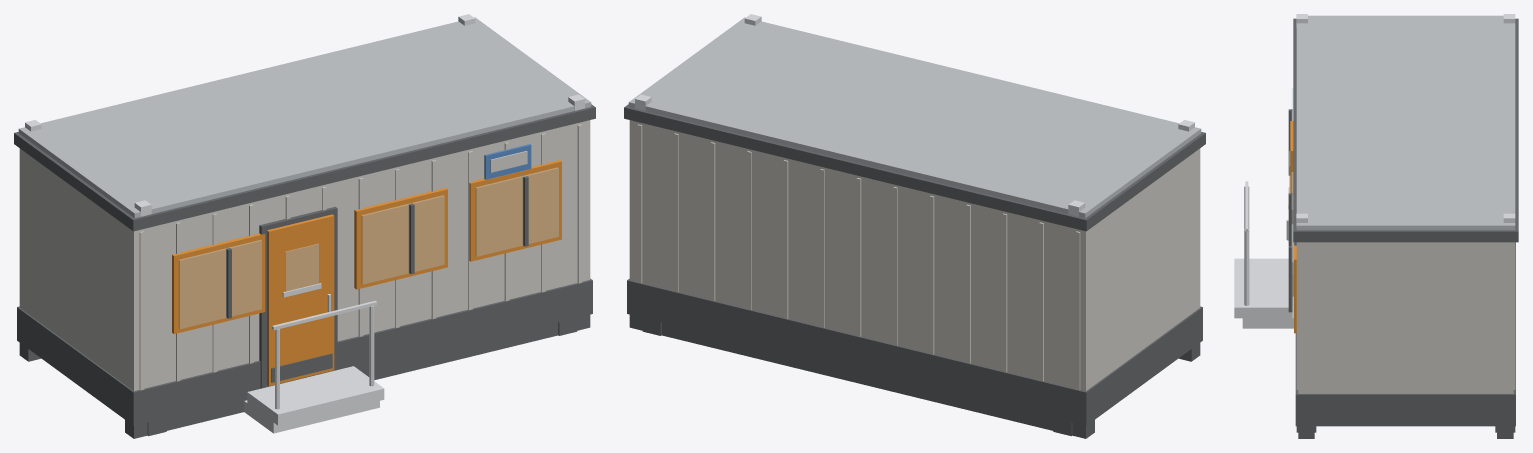
Rendered from tool-hire-depot-and-plant-yard-tool-hire-depot-and-pla-fac914d0.glb.
3 renders of one model, left to right at view 1: azimuth 30°, elevation 25°; view 2: azimuth 150°, elevation 25°; view 3: azimuth 270°, elevation 25°, orthographic. The views are drawn at different scales.
Visible parts, largest first — view 1: tool-hire-depot-and-plant-yard-site-office-cabin, cabin-door/orange, cabin-door/glass, cabin-door/charcoal; view 2: tool-hire-depot-and-plant-yard-site-office-cabin; view 3: tool-hire-depot-and-plant-yard-site-office-cabin, cabin-door/orange.
Part boxes in pixels (x1=…): tool-hire-depot-and-plant-yard-site-office-cabin: x1=14, y1=14, x2=595, y2=438; cabin-door/orange: x1=267, y1=214, x2=334, y2=385; cabin-door/glass: x1=285, y1=244, x2=318, y2=291; cabin-door/charcoal: x1=271, y1=353, x2=332, y2=382; tool-hire-depot-and-plant-yard-site-office-cabin: x1=624, y1=14, x2=1205, y2=438; tool-hire-depot-and-plant-yard-site-office-cabin: x1=1234, y1=14, x2=1518, y2=438; cabin-door/orange: x1=1290, y1=121, x2=1293, y2=296.
Size of the model in its own units: 6.08 by 2.9 by 3.43.
